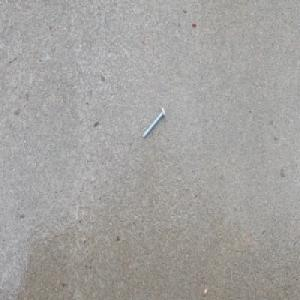Nail: (144, 109, 168, 141)
